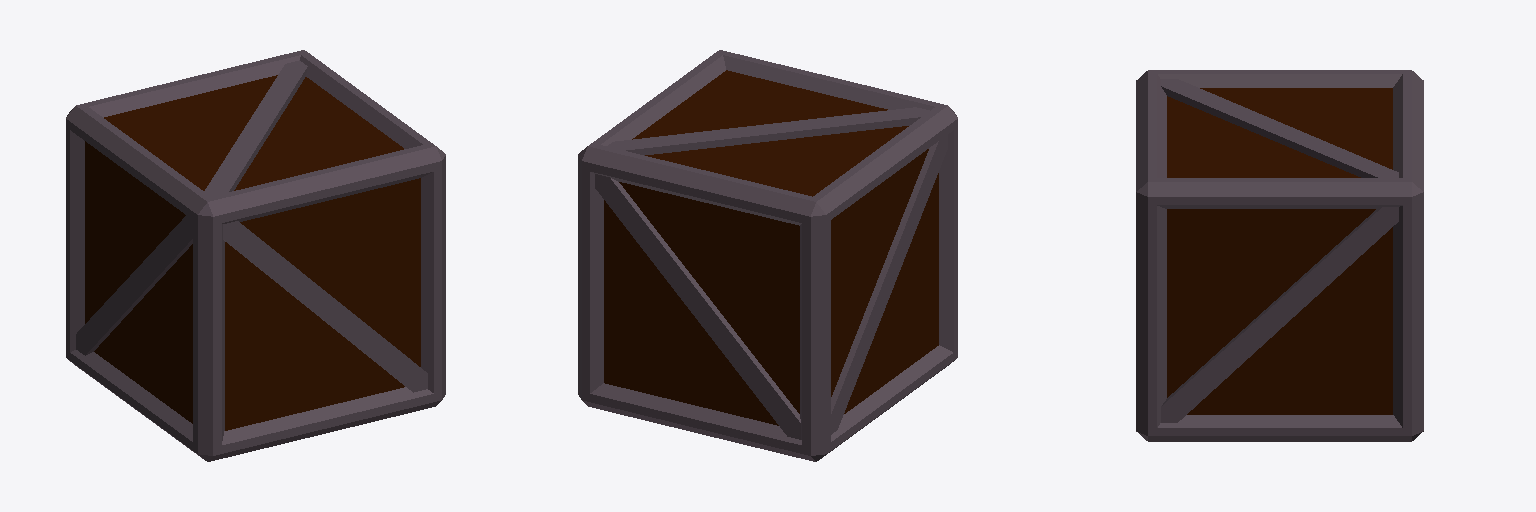
Rendered from crate.obj.
3 renders of one model, left to right at view 1: azimuth 30°, elevation 25°; view 2: azimuth 150°, elevation 25°; view 3: azimuth 270°, elevation 25°, orthographic.
Parts seen in each view (by area): view 1: Cube.001, Cube; view 2: Cube.001, Cube; view 3: Cube.001, Cube.
Part boxes in pixels (bbox=[...]): Cube.001: bbox=[76, 60, 427, 430]; Cube: bbox=[66, 50, 445, 461]; Cube.001: bbox=[595, 70, 947, 439]; Cube: bbox=[578, 50, 957, 461]; Cube.001: bbox=[1161, 79, 1398, 422]; Cube: bbox=[1136, 70, 1423, 441].
Size of the model in its own units: 2 by 2 by 2.